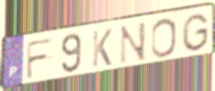9: (60, 32, 83, 75)
F: (25, 36, 56, 82)
G: (181, 12, 210, 53)
K: (91, 27, 114, 69)
N: (118, 20, 148, 67)
O: (150, 17, 178, 59)
